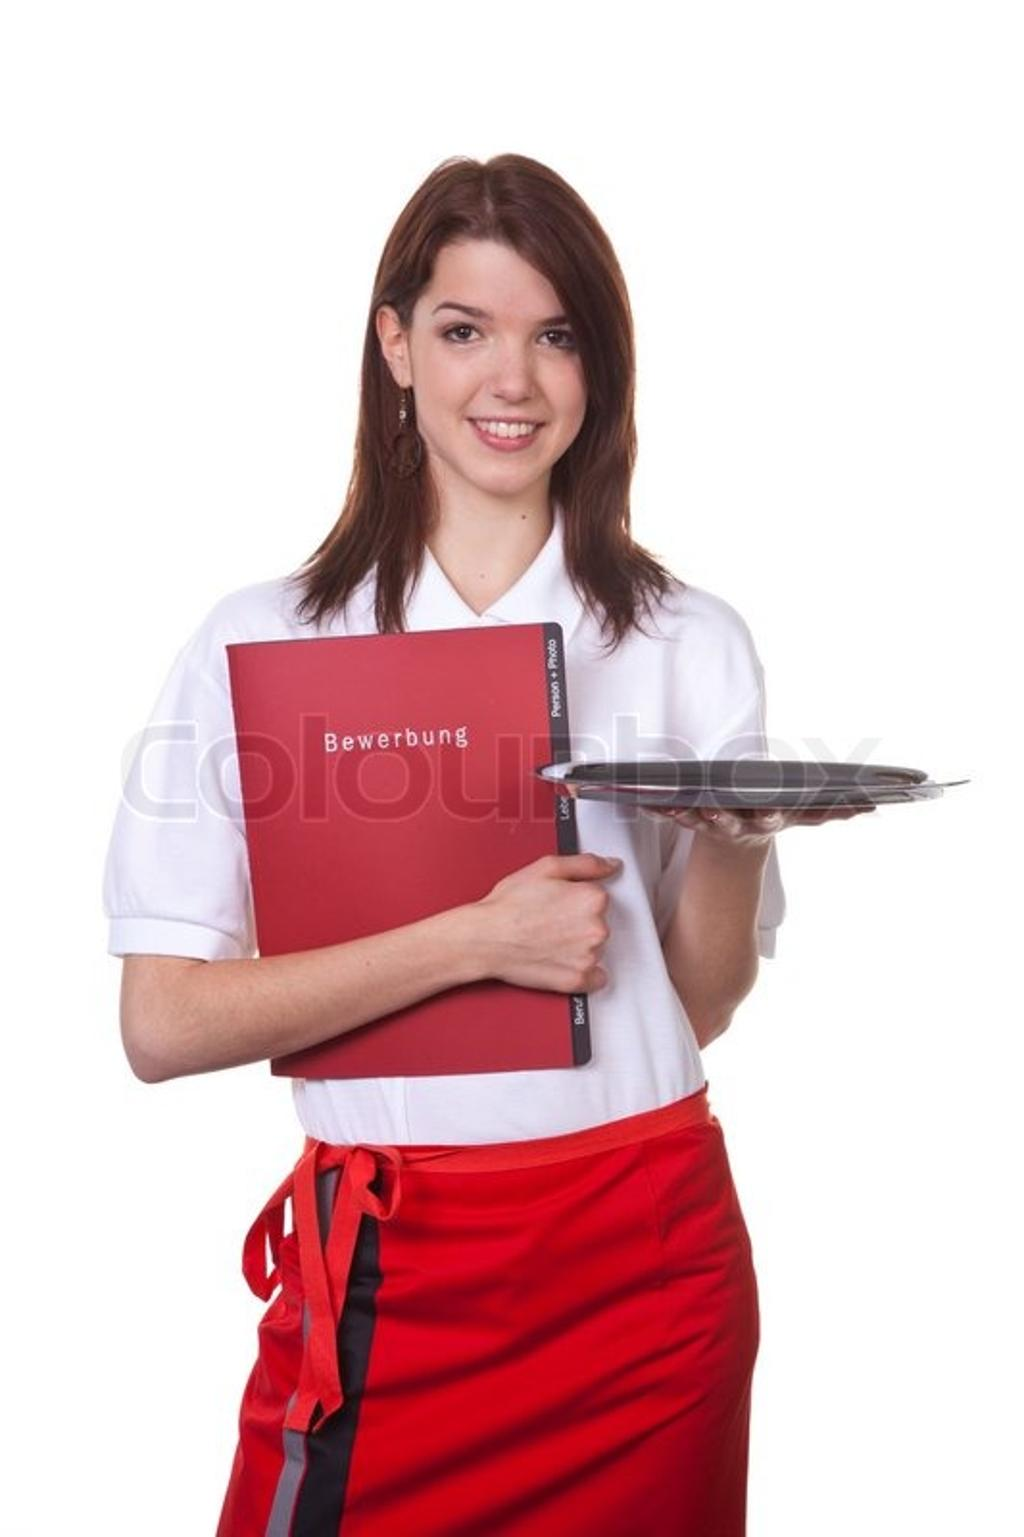face: (408, 228, 594, 489)
